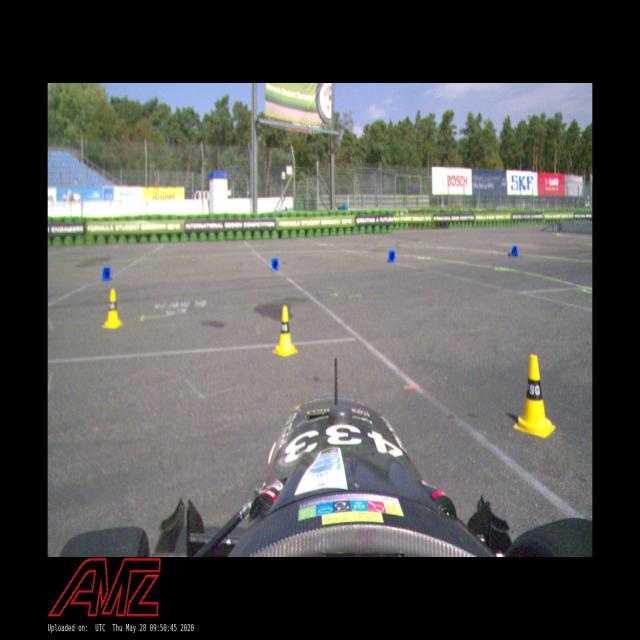yellow_cone: (512, 352, 556, 437), (274, 304, 298, 355), (103, 287, 122, 328)
